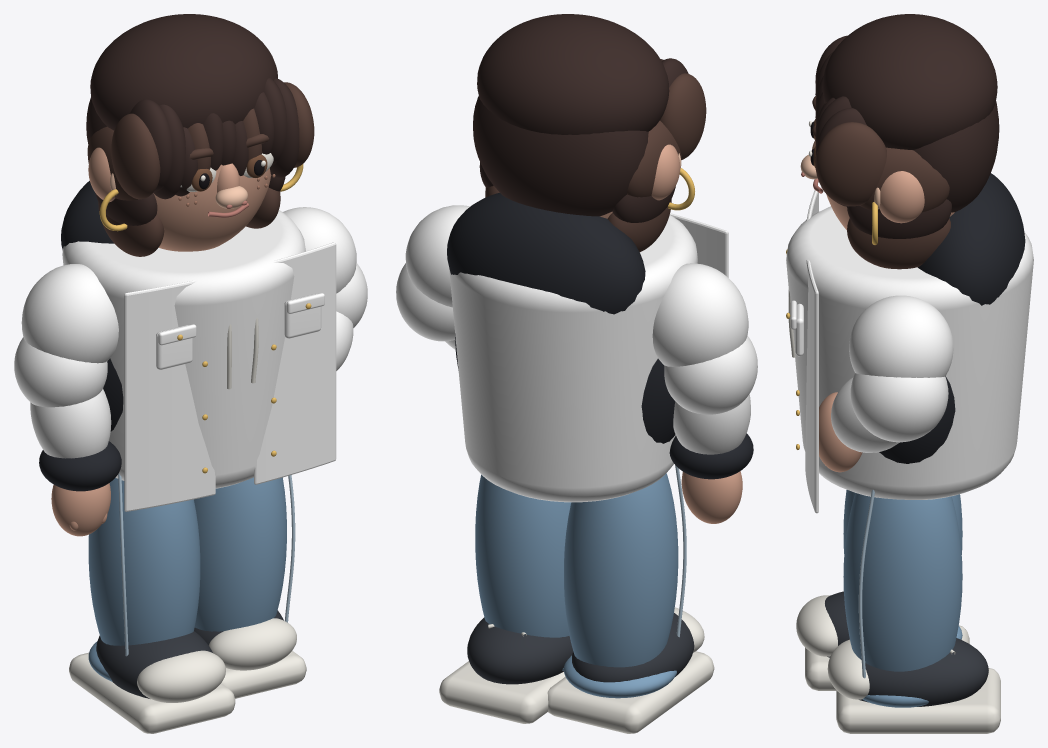
Rendered from preview.glb.
3 views of the same model, side by side, from view 1: azimuth 30°, elevation 25°; view 2: azimuth 150°, elevation 25°; view 3: azimuth 270°, elevation 25° (orthographic). The views are drawn at different scales.
Parts seen in each view (by area): view 1: MESH_overshirt_silhouette, MESH_hair_cap, MESH_plaid_front_L, MESH_denim_leg_L, MESH_denim_leg_R, MESH_plaid_front_R, MESH_sleeve_upper_L, MESH_face, MESH_sneaker_sole_L, MESH_elbow_L, MESH_sleeve_forearm_L, MESH_sneaker_toe_L (+30 smaller); view 2: MESH_overshirt_silhouette, MESH_hair_cap, MESH_denim_leg_L, MESH_hood, MESH_hair_back, MESH_denim_leg_R, MESH_sleeve_upper_L, MESH_sneaker_sole_L, MESH_sneaker_upper_R, MESH_elbow_L, MESH_sneaker_sole_R, MESH_sleeve_upper_R (+14 smaller); view 3: MESH_overshirt_silhouette, MESH_denim_leg_R, MESH_hair_cap, MESH_hood, MESH_sleeve_upper_R, MESH_sneaker_sole_R, MESH_elbow_R, MESH_fringe_12, MESH_sneaker_upper_R, MESH_hair_back, MESH_plaid_front_R, MESH_temple_R2 (+16 smaller).
Part boxes in pixels (left/top/right/bottom): MESH_overshirt_silhouette: left=62, top=210, right=305, bottom=488; MESH_hair_cap: left=90, top=14, right=277, bottom=130; MESH_plaid_front_L: left=124, top=280, right=215, bottom=511; MESH_denim_leg_L: left=88, top=478, right=200, bottom=645; MESH_denim_leg_R: left=194, top=477, right=286, bottom=631; MESH_plaid_front_R: left=254, top=242, right=336, bottom=484; MESH_sleeve_upper_L: left=21, top=264, right=118, bottom=363; MESH_face: left=153, top=164, right=271, bottom=251; MESH_sneaker_sole_L: left=69, top=652, right=235, bottom=733; MESH_elbow_L: left=14, top=337, right=107, bottom=407; MESH_sleeve_forearm_L: left=30, top=389, right=111, bottom=458; MESH_sneaker_toe_L: left=137, top=650, right=225, bottom=702; MESH_overshirt_silhouette: left=449, top=215, right=697, bottom=502; MESH_hair_cap: left=477, top=14, right=669, bottom=134; MESH_denim_leg_L: left=564, top=473, right=678, bottom=667; MESH_hood: left=447, top=192, right=645, bottom=314; MESH_hair_back: left=473, top=96, right=648, bottom=216; MESH_denim_leg_R: left=475, top=474, right=571, bottom=637; MESH_sleeve_upper_L: left=652, top=263, right=748, bottom=366; MESH_sneaker_sole_L: left=547, top=651, right=714, bottom=733; MESH_sneaker_upper_R: left=467, top=617, right=573, bottom=684; MESH_elbow_L: left=664, top=336, right=757, bottom=414; MESH_sneaker_sole_R: left=439, top=661, right=565, bottom=723; MESH_sleeve_upper_R: left=405, top=205, right=469, bottom=307; MESH_overshirt_silhouette: left=786, top=206, right=1033, bottom=499; MESH_denim_leg_R: left=843, top=493, right=962, bottom=671; MESH_hair_cap: left=822, top=14, right=997, bottom=149; MESH_hood: left=918, top=173, right=1025, bottom=305; MESH_sleeve_upper_R: left=849, top=295, right=953, bottom=377; MESH_sneaker_sole_R: left=836, top=668, right=1000, bottom=733; MESH_elbow_R: left=850, top=373, right=948, bottom=442; MESH_fringe_12: left=815, top=122, right=886, bottom=206; MESH_sneaker_upper_R: left=859, top=638, right=988, bottom=706; MESH_hair_back: left=913, top=101, right=999, bottom=212; MESH_plaid_front_R: left=805, top=259, right=818, bottom=513; MESH_temple_R2: left=847, top=218, right=950, bottom=269.
Size of what is drawn, in the model's own units: 1.14 by 2.1 by 0.7078.
